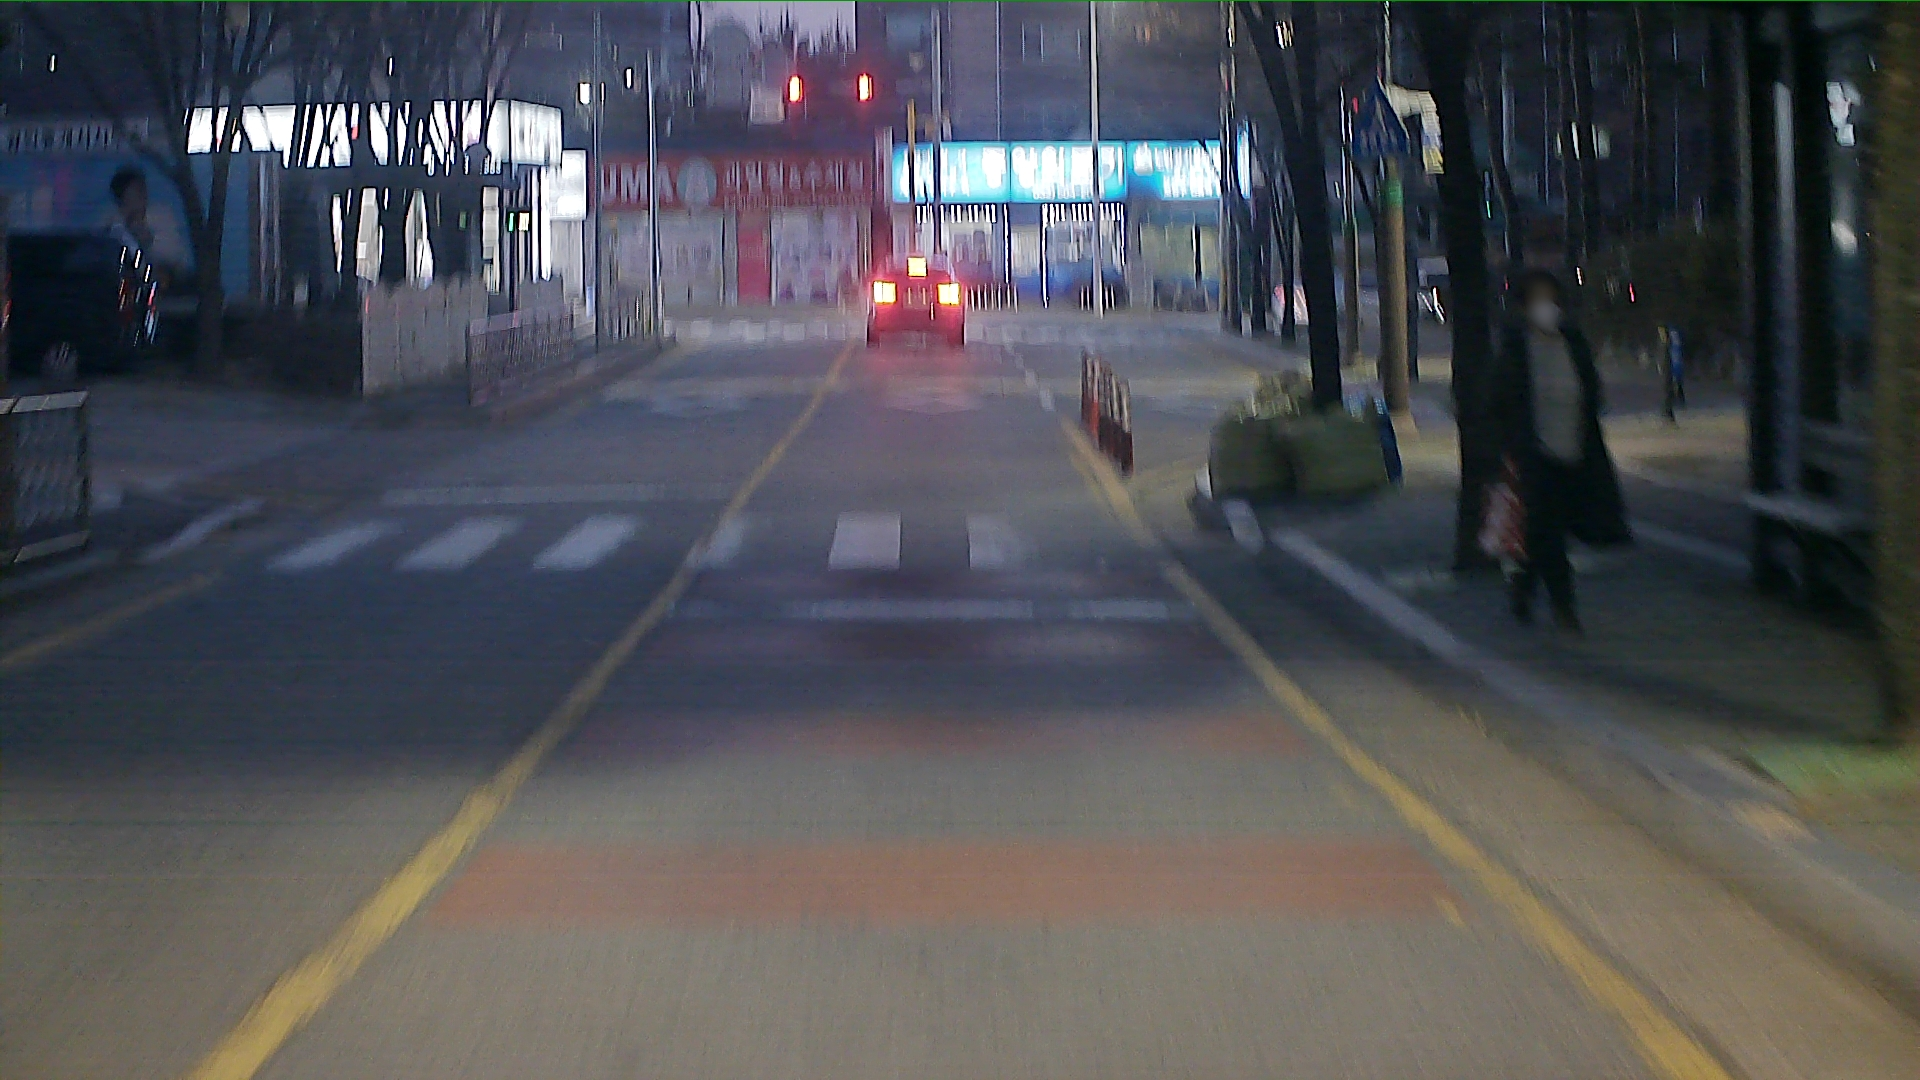trafficLight: (769, 71, 906, 105)
trafficSignTri: (1344, 84, 1414, 161)
